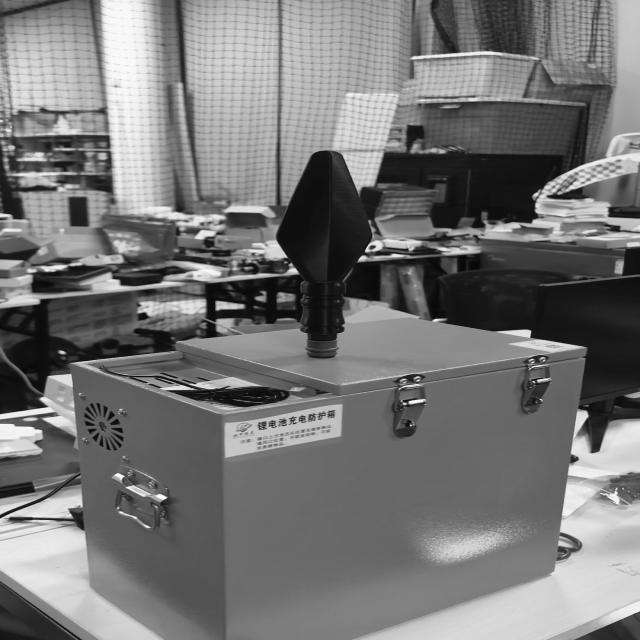base: (304, 337, 339, 359)
